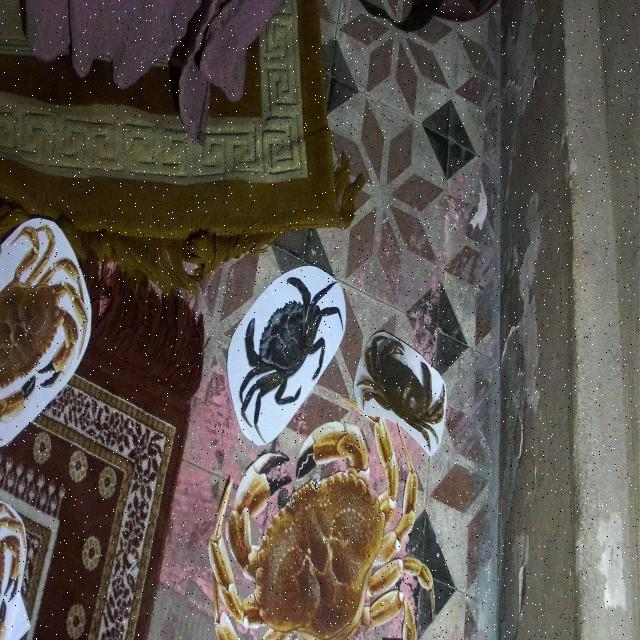European_Green_Crab: (221, 241, 355, 445)
